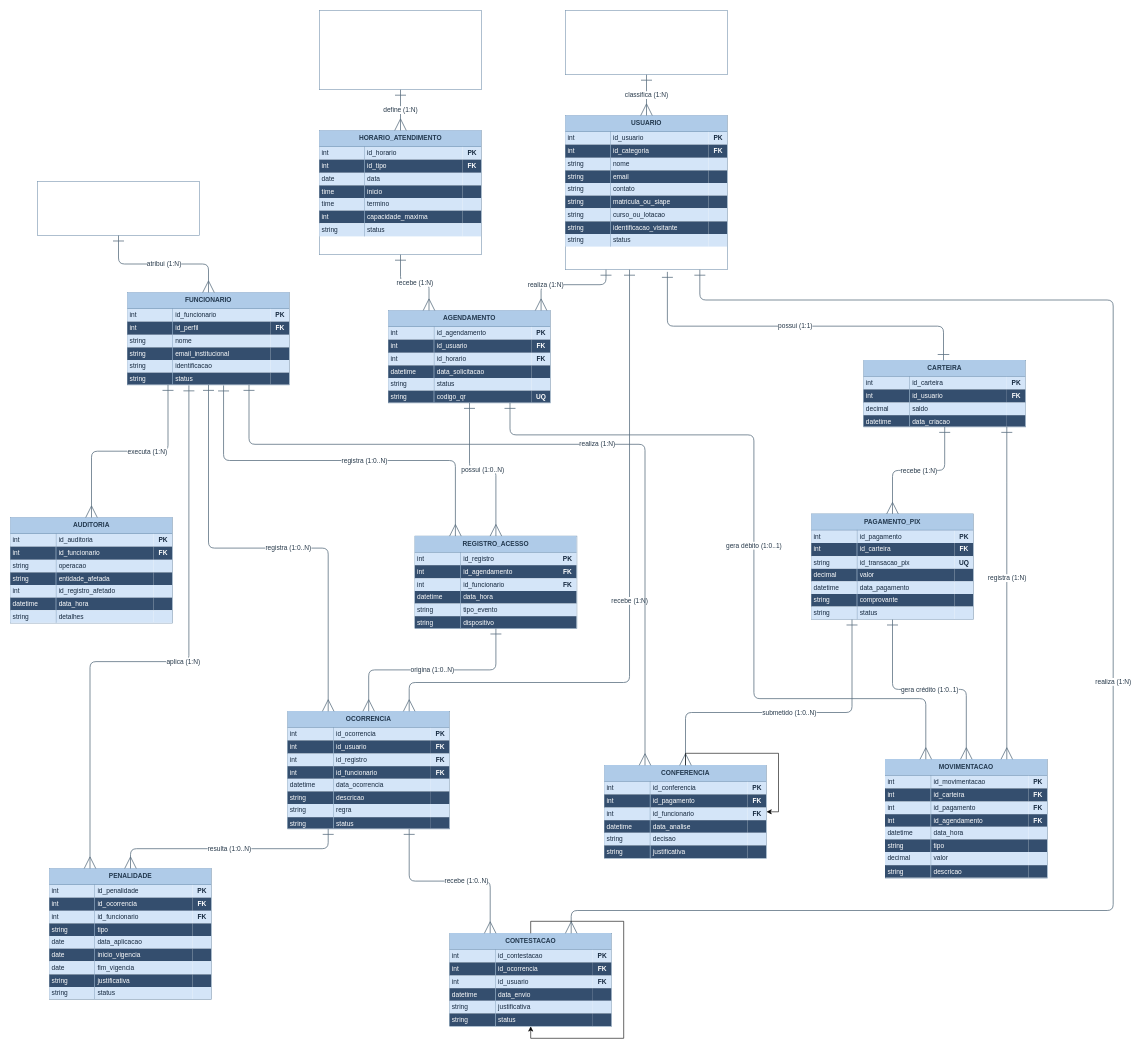
The diagram is 1142 pixels wide and 1054 high, and some of its shapes have lost their labels. The shapes that lost their labels are listed below. From the top down, each one's box as (x1, y1, x2, y2) in pixels, then its label:
(319, 10, 482, 90): TIPO_REFEICAO int id_tipo PK string nome decimal valor string descricao
(565, 10, 728, 75): CATEGORIA_USUARIO int id_categoria PK string nome string descricao
(37, 181, 200, 236): PERFIL_ACESSO int id_perfil PK string nome string permissoes
